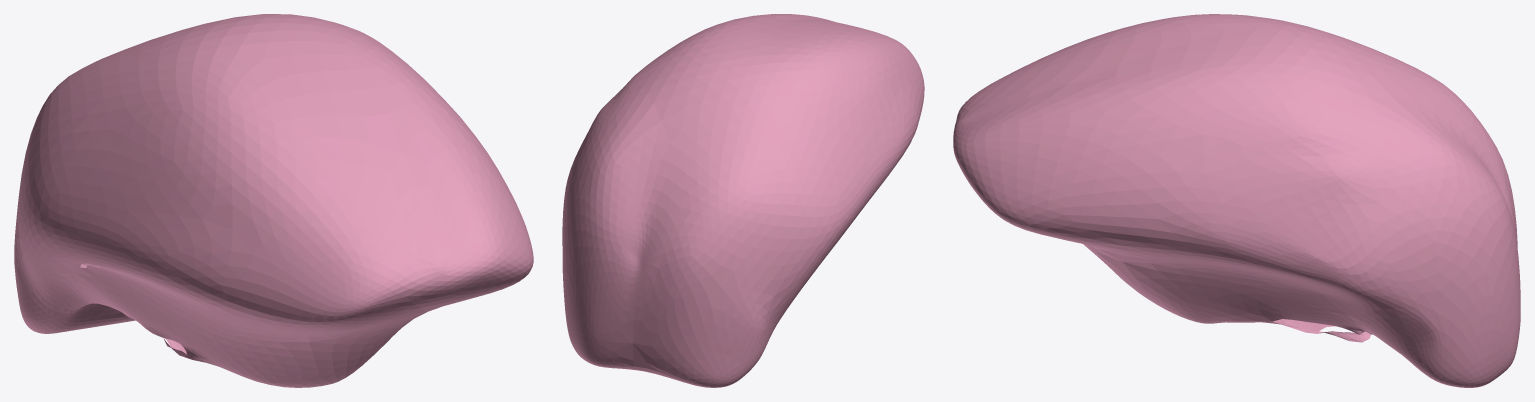
File: lingua.glb
3 views of the same model, side by side, from view 1: azimuth 30°, elevation 25°; view 2: azimuth 150°, elevation 25°; view 3: azimuth 270°, elevation 25° (orthographic). The views are drawn at different scales.
Parts seen in each view (by area): view 1: tongue; view 2: tongue; view 3: tongue.
Part boxes in pixels (x1,y1,x2,y2): tongue: [14, 14, 533, 387]; tongue: [562, 14, 924, 387]; tongue: [953, 14, 1520, 387].
Bounding box in the file's own units: 37.98 × 35.42 × 59.
